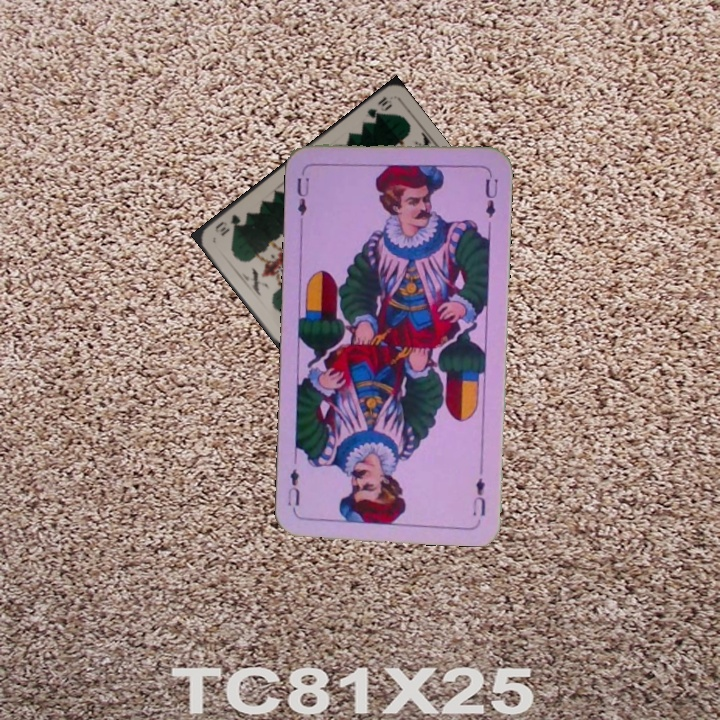EU: (468, 474, 488, 518), (293, 174, 312, 219)
G10: (363, 93, 395, 121)
